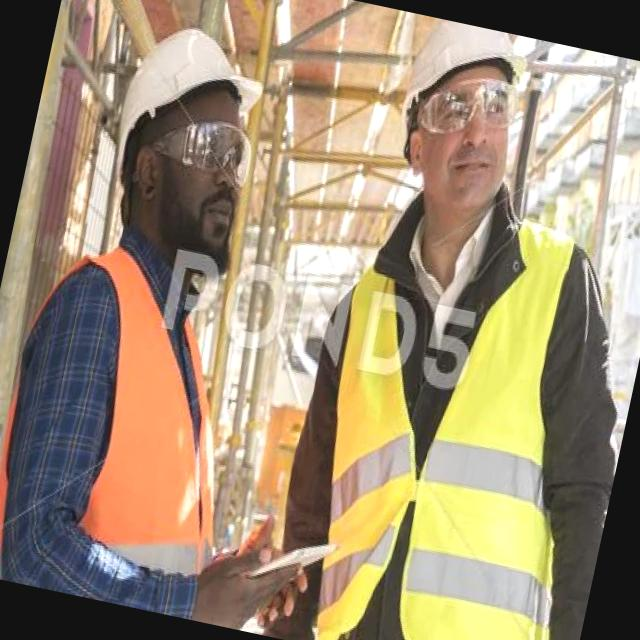goggles: (412, 64, 531, 151), (145, 112, 265, 192)
helmet: (110, 8, 276, 128), (396, 12, 534, 109)
vest: (272, 183, 631, 640), (0, 219, 275, 621)
